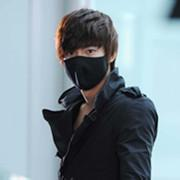face_mask: (63, 35, 106, 87)
